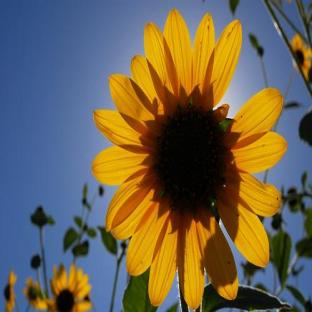sunflower: (90, 8, 293, 312)
